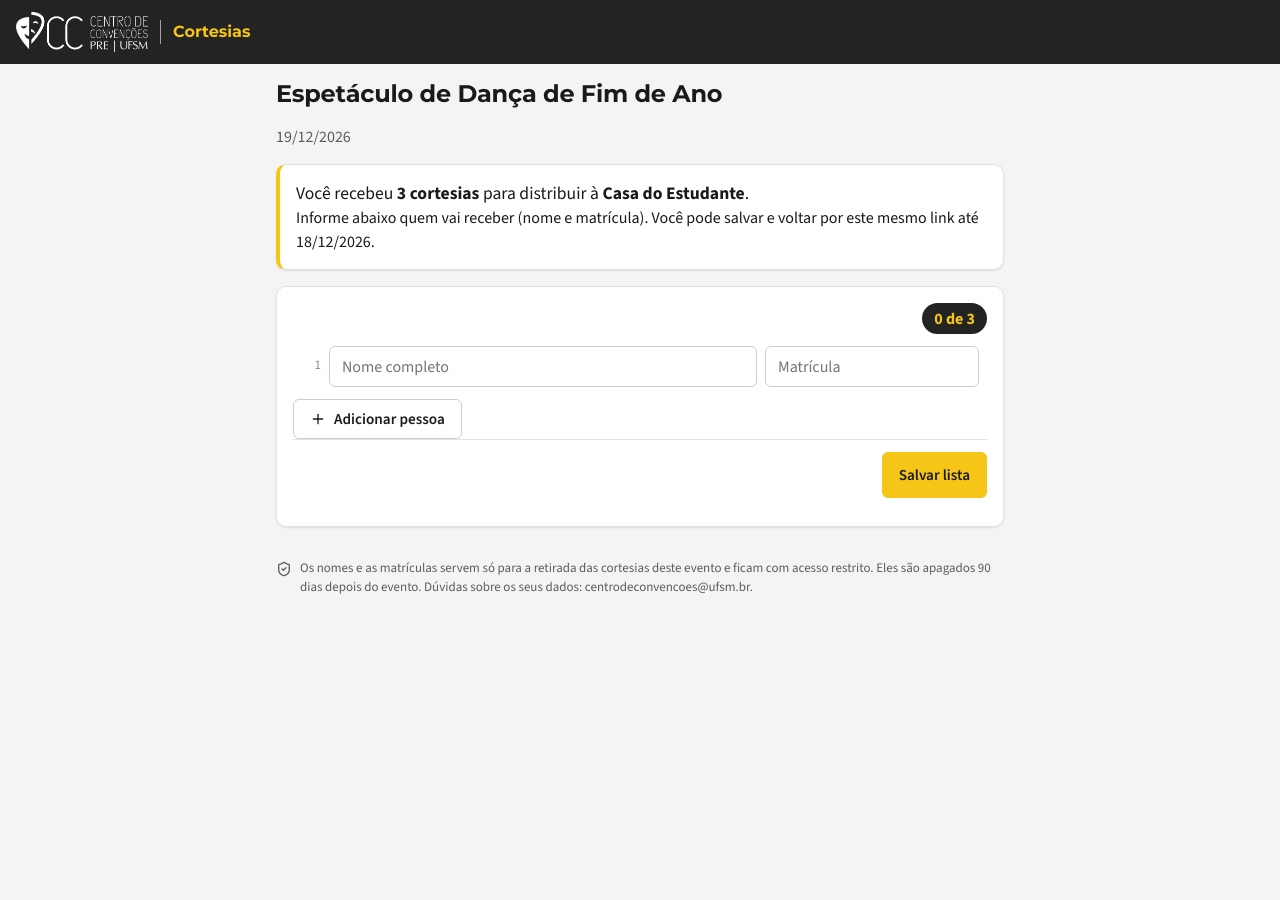
Test case: cortesias pelo link do destino › mostra quantas cortesias recebeu e salva nome por nome
The image size is (1280, 900).
Expected: the text "Você recebeu" shows "Você recebeu 3 cortesias para distribuir à Casa do Estudante", [296,181,749,205]
Expected: the text "0 de 3" is shown, [922,303,987,334]
Type "Ana Souza" into the field named "Nome 1".
click(543, 367); type("Ana Souza")  # box [329,346,757,387]
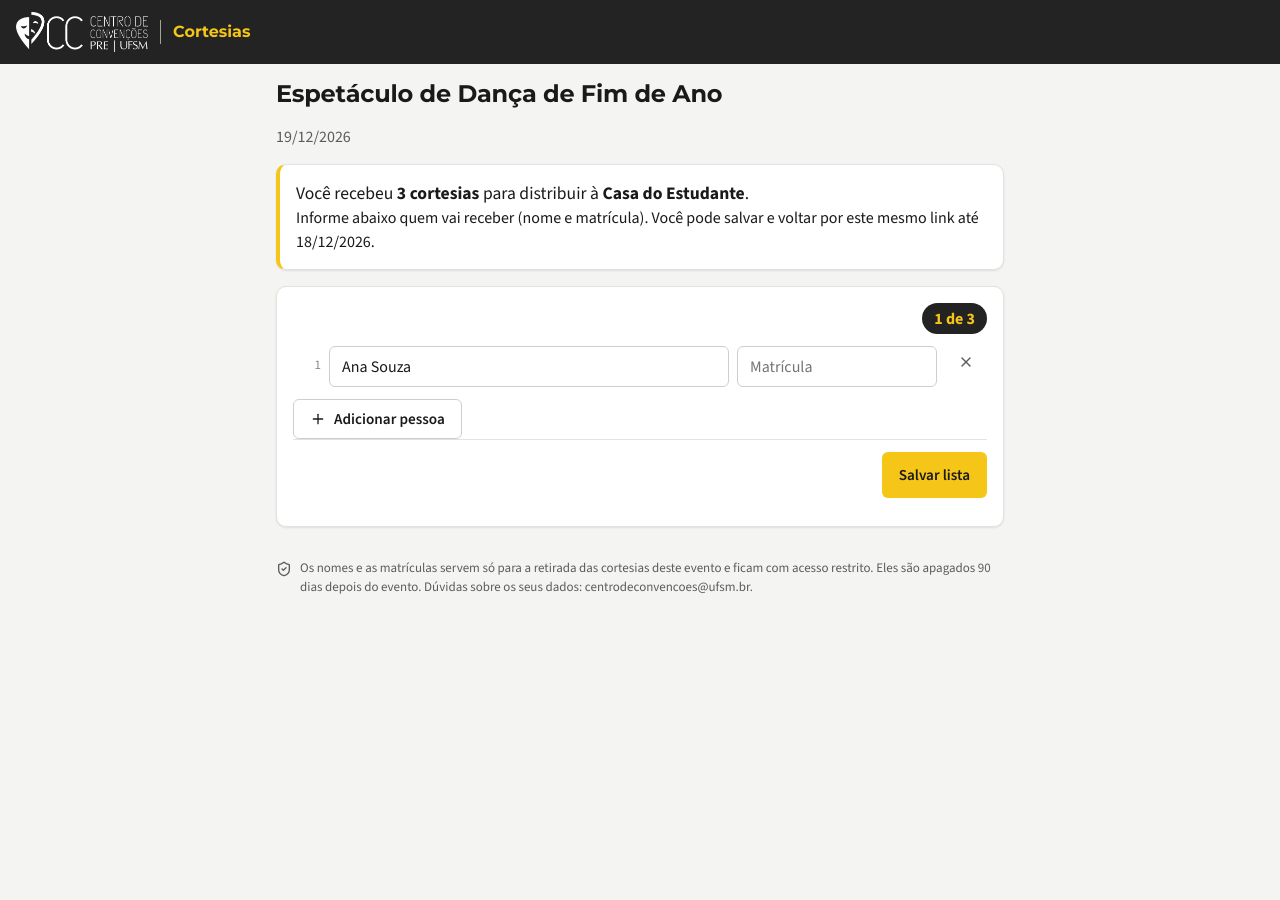
Type "202600001" into the field named "Matrícula 1".
click(837, 367); type("202600001")  # box [737,346,937,387]
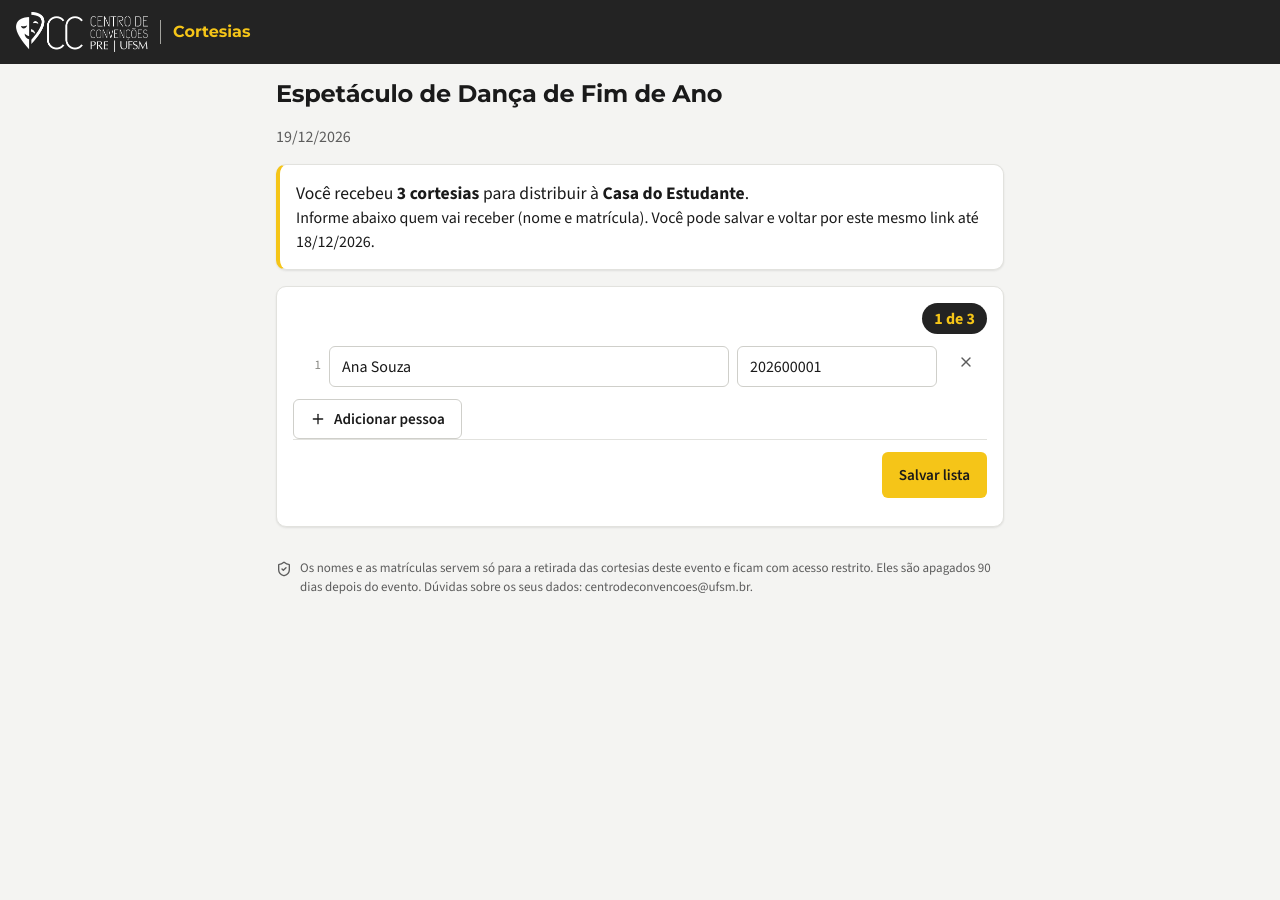
Click the button "Adicionar pessoa".
click(377, 419)  # box [293,399,462,439]
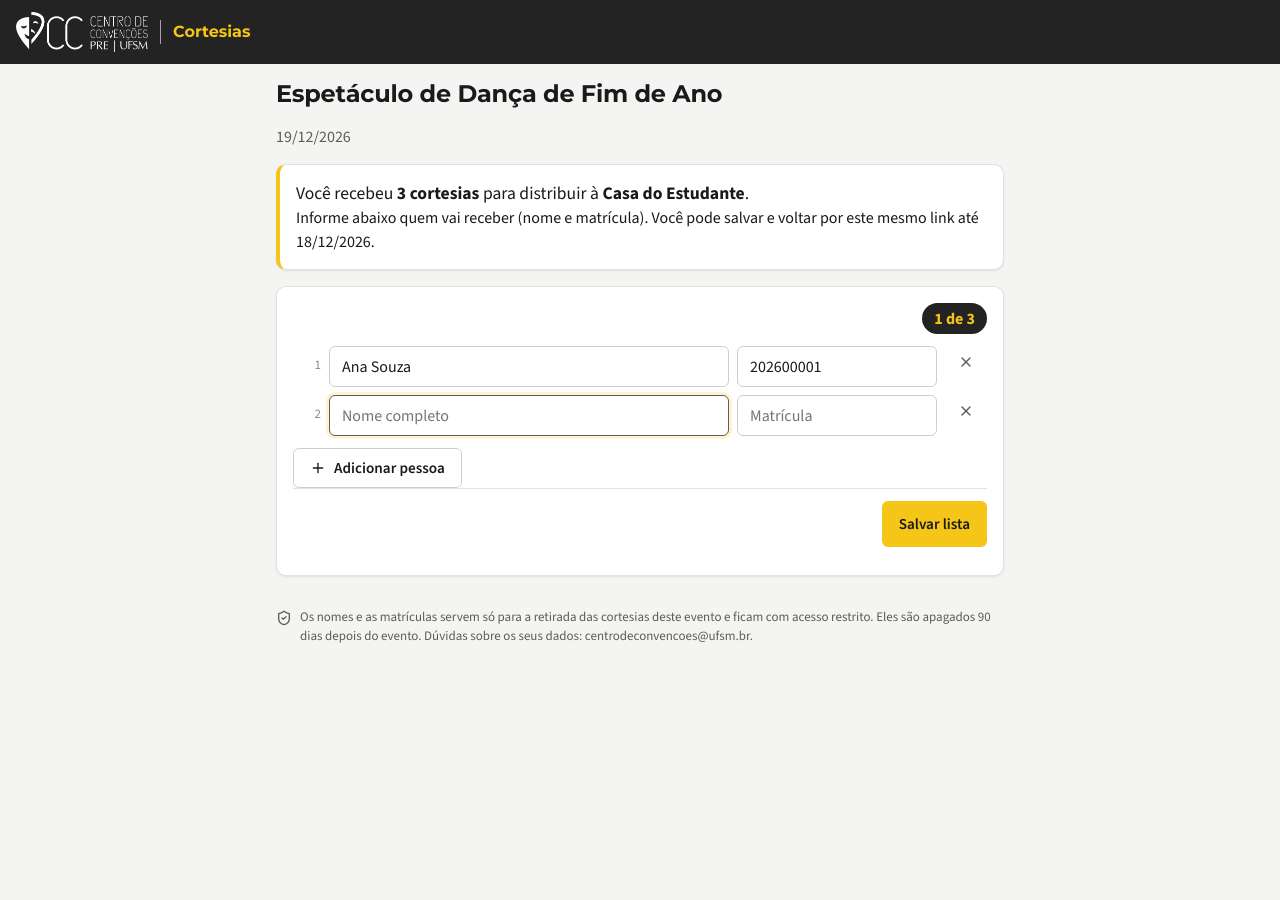
Type "Bia Lima" into the field named "Nome 2".
click(529, 416); type("Bia Lima")  # box [329,395,729,436]
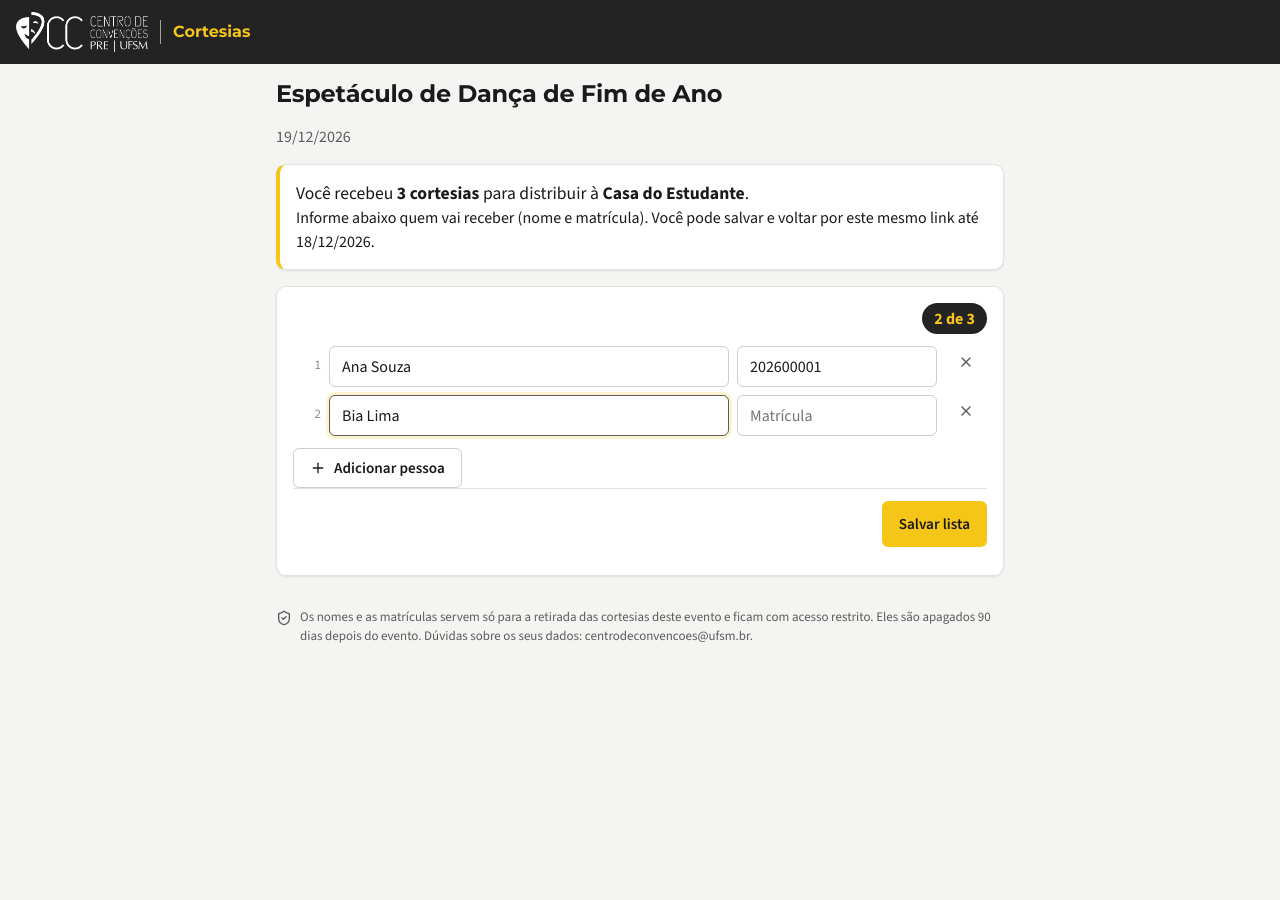
Type "202600002" into the field named "Matrícula 2".
click(837, 416); type("202600002")  # box [737,395,937,436]
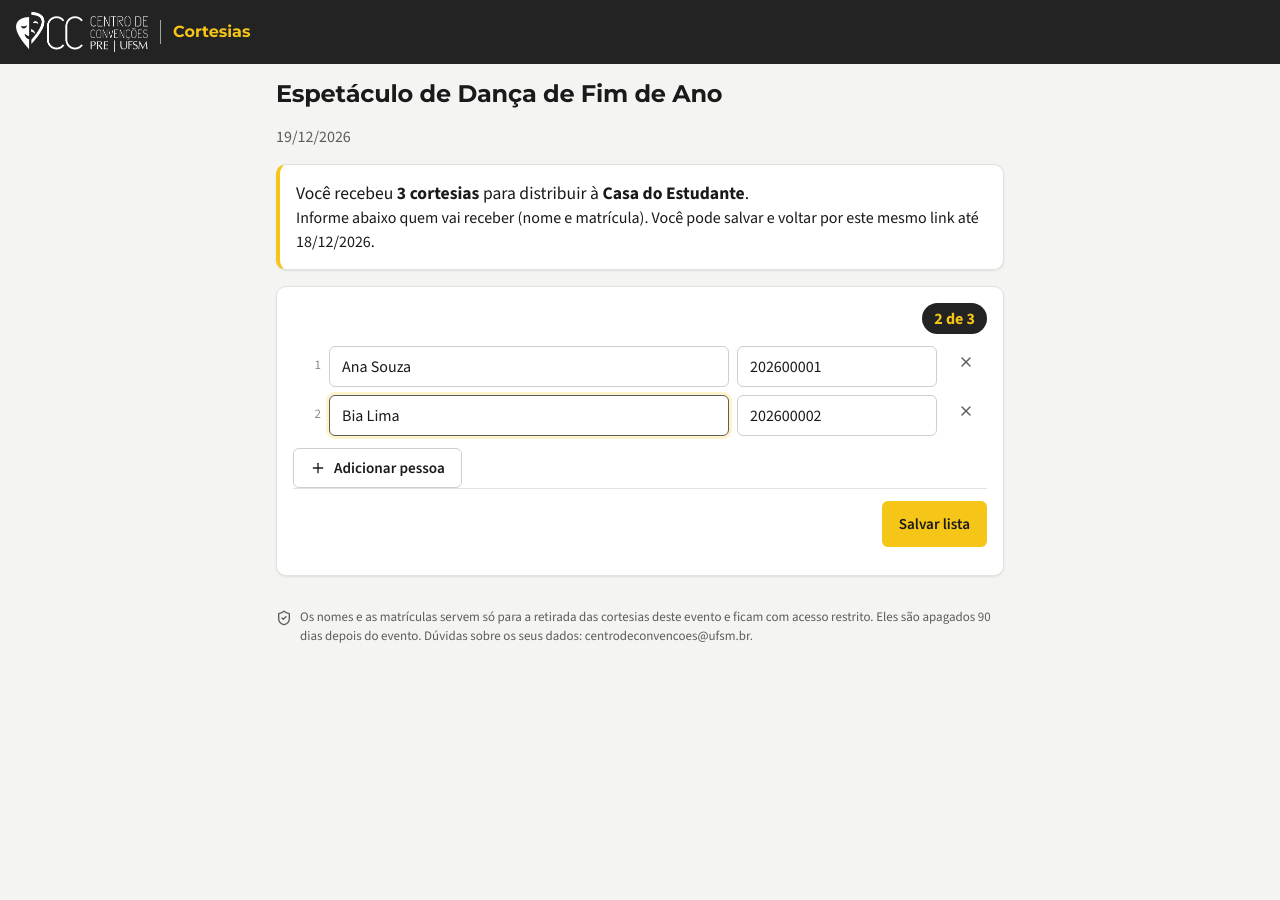
Click the button "Salvar lista".
click(934, 524)  # box [882,501,987,547]
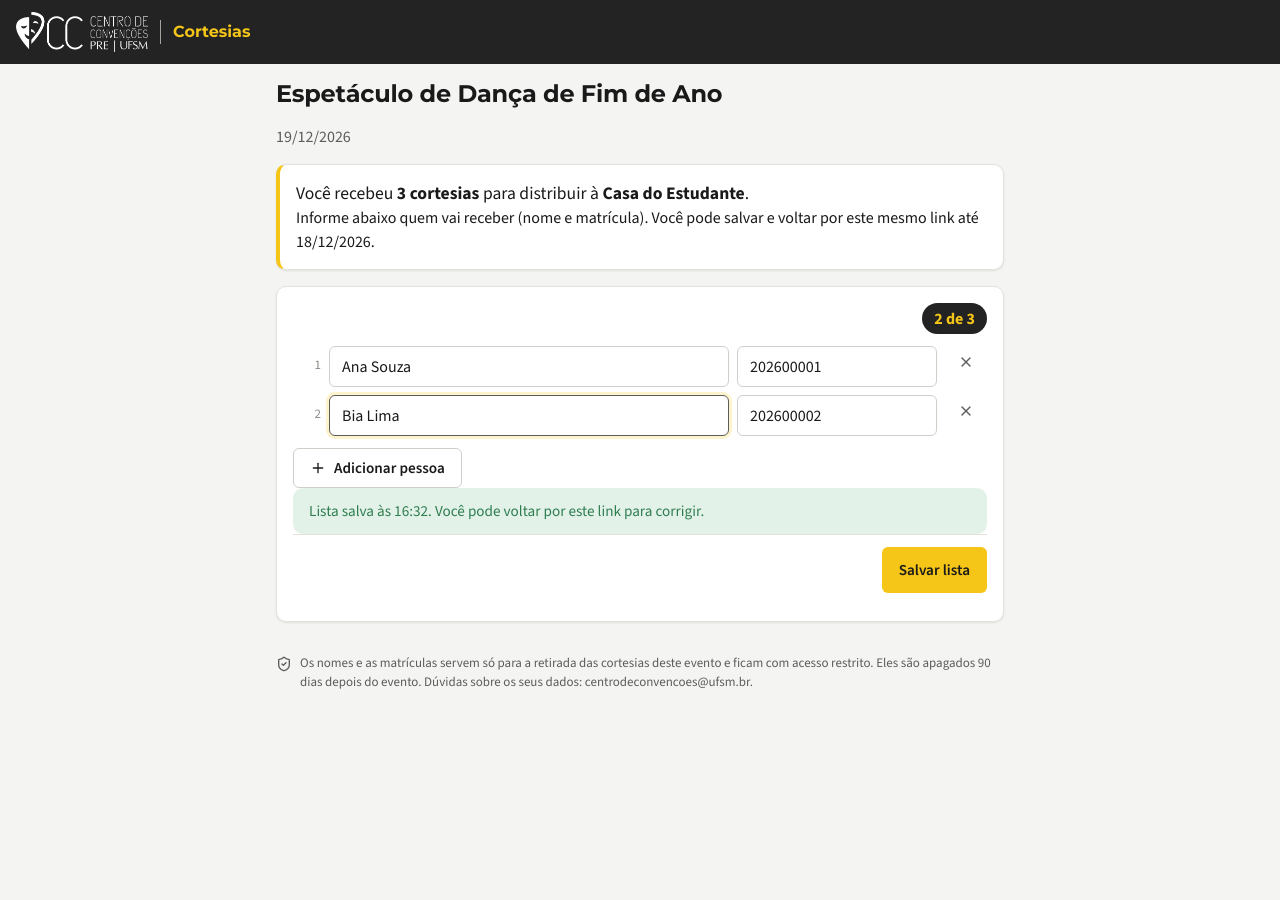
Now the text "2 de 3" is shown, box [922,303,987,334]
Now the text "Lista salva" is shown, box [309,501,704,521]
